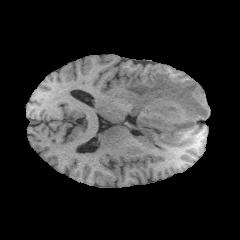glioma: (127, 71, 210, 151)
